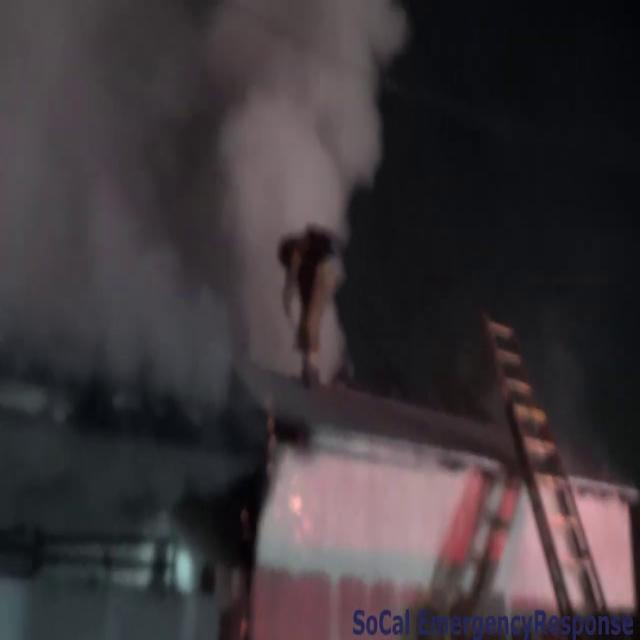Smoke: (0, 0, 406, 618)
